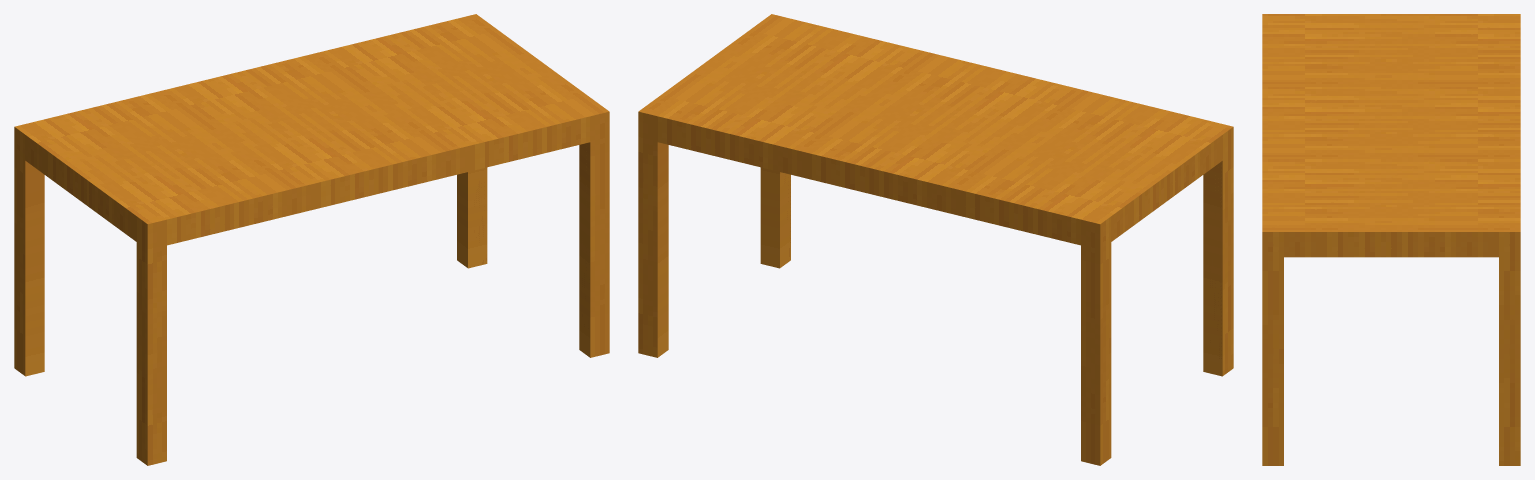
The model's file is HomeTable1.fbx.
3 views of the same model, side by side, from view 1: azimuth 30°, elevation 25°; view 2: azimuth 150°, elevation 25°; view 3: azimuth 270°, elevation 25° (orthographic). The views are drawn at different scales.
Parts seen in each view (by area): view 1: Cube, Cube_1; view 2: Cube, Cube_1; view 3: Cube.
Part boxes in pixels (bbox=[...]): Cube: bbox=[14, 14, 609, 465]; Cube_1: bbox=[25, 142, 590, 376]; Cube: bbox=[638, 14, 1233, 465]; Cube_1: bbox=[657, 142, 1222, 376]; Cube: bbox=[1262, 14, 1520, 465].
Bounding box in the file's own units: 600 × 300 × 300.
Materials: 1 (1 with a texture image).
